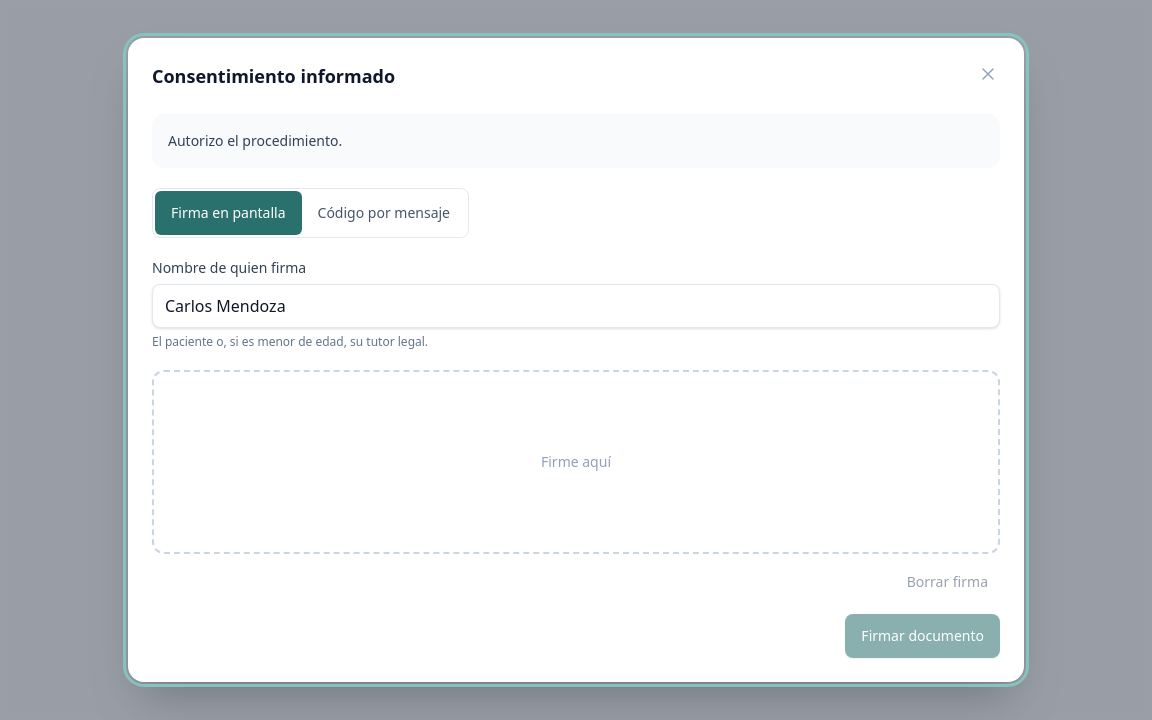
it: <SigningDialog>: código OTP (RF-06) › con un código incorrecto avisa y muestra los intentos que quedan
The width and height of the screenshot is (1152, 720).
Click the tab "Código por mensaje".
click(384, 213)  # box [302, 191, 466, 235]
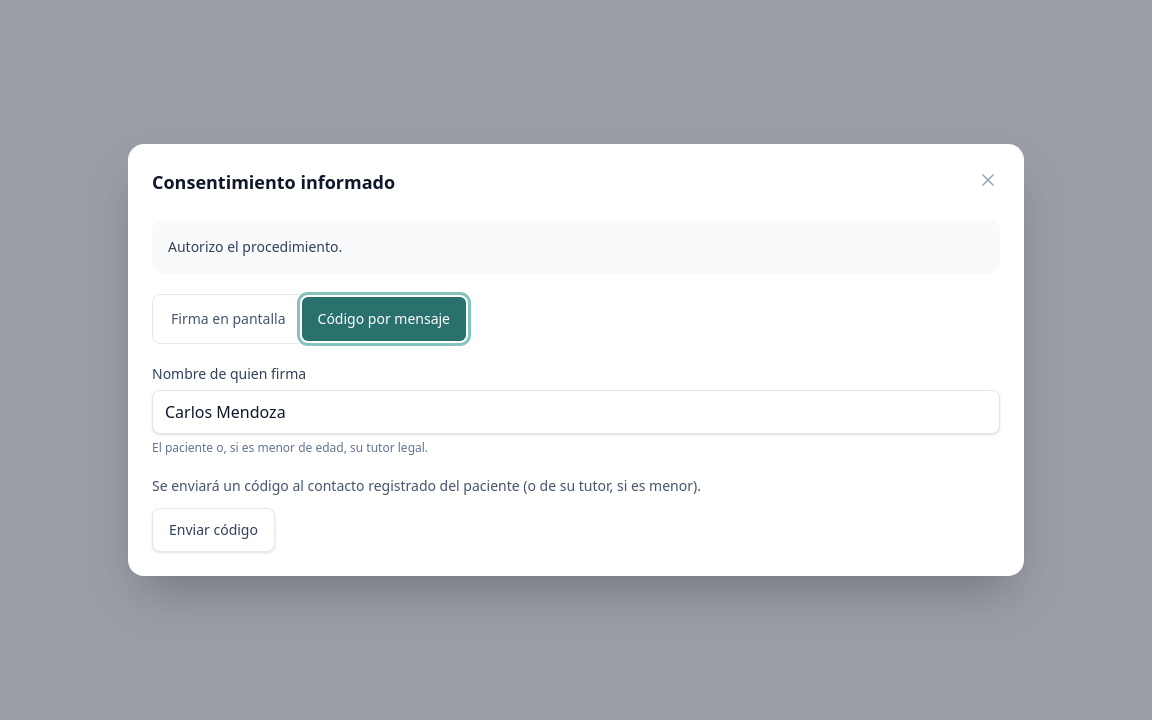
Click the button "Enviar código".
click(213, 530)  # box [152, 508, 275, 552]
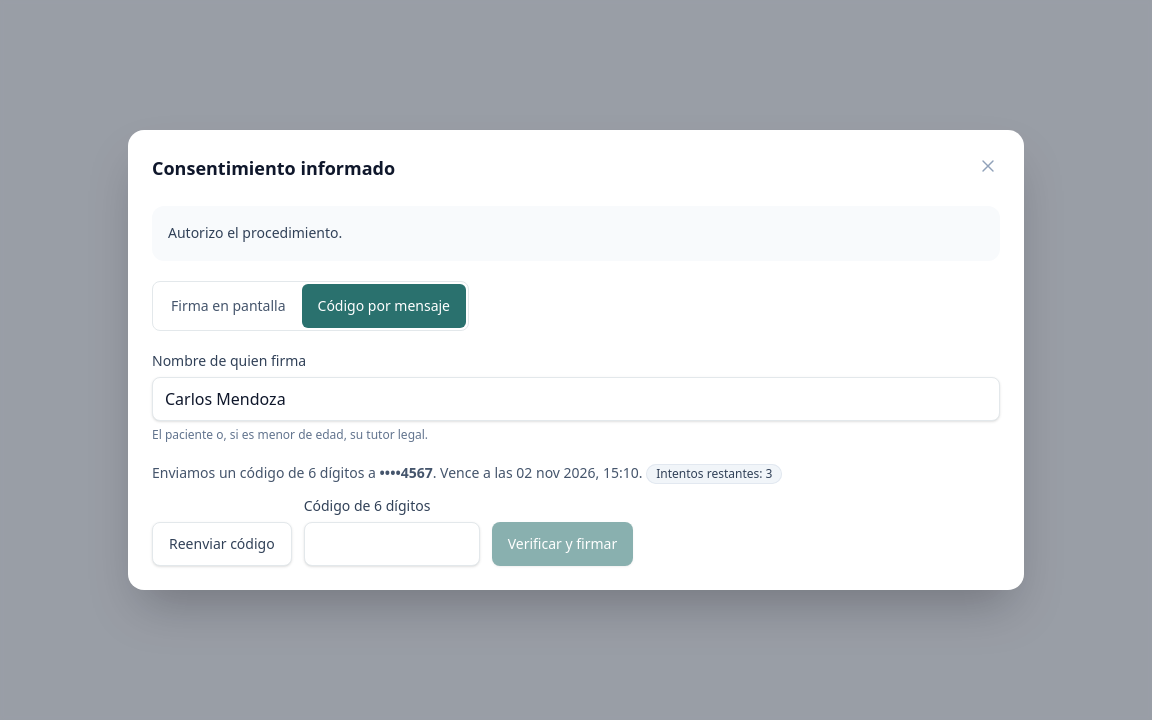
Type "000000" into the field labelled "Código de 6 dígitos".
click(392, 544); type("000000")  # box [304, 522, 480, 566]
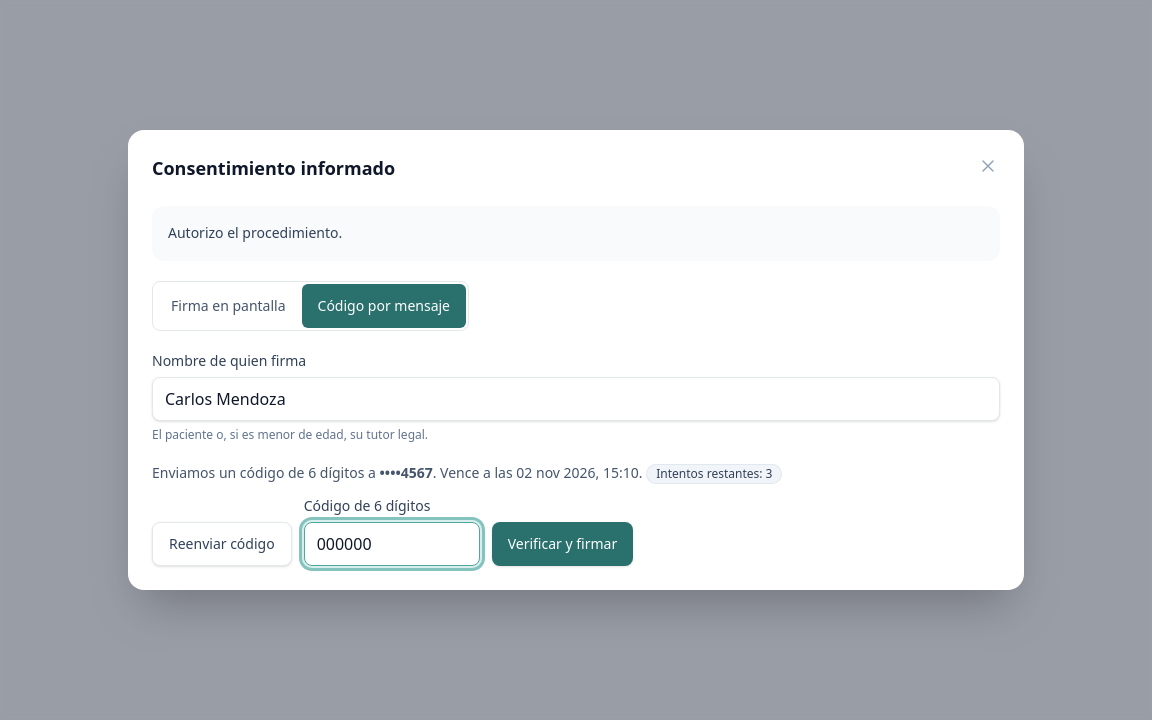
Click the button "Verificar y firmar".
click(562, 544)  # box [492, 522, 633, 566]
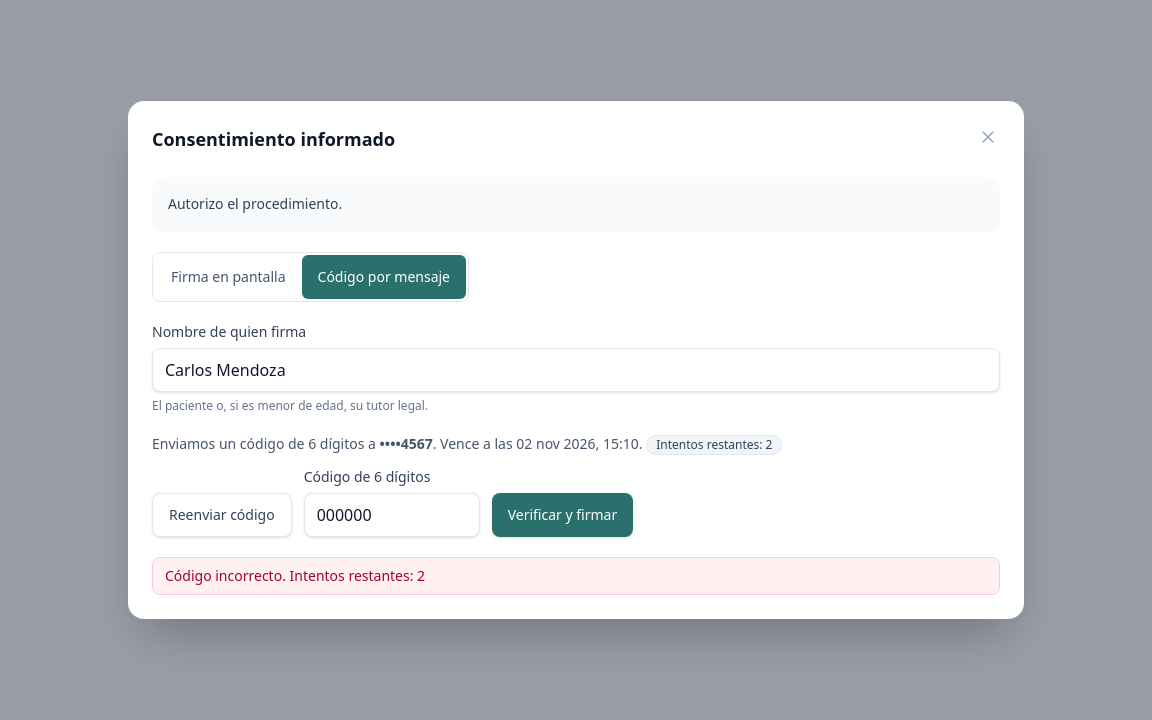
Check: the message "Código incorrecto. Intentos restantes: 2" is shown, box [152, 557, 1000, 595]
Check: the message that starts with "Enviamos un código de 6 dígitos a" shows "Intentos restantes: 2", box [152, 434, 782, 455]
